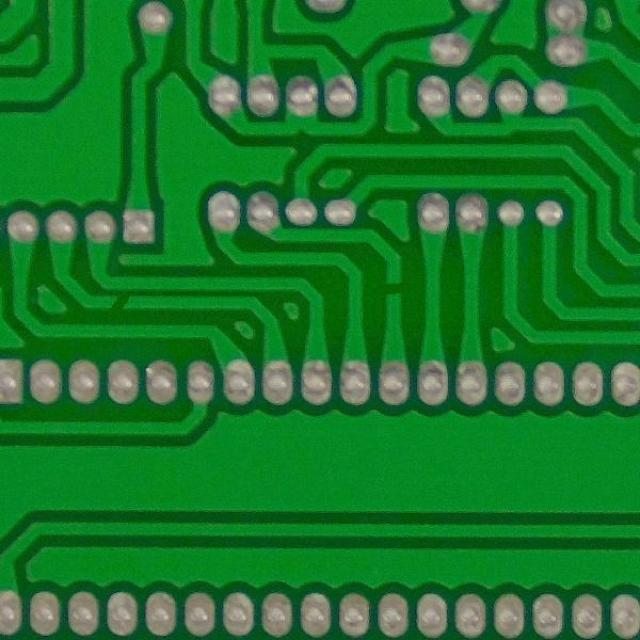Open_Circuit: (375, 270, 413, 310), (101, 290, 143, 319)
